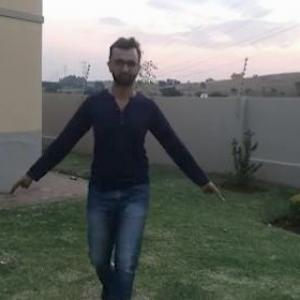land: (30, 47, 199, 274)
